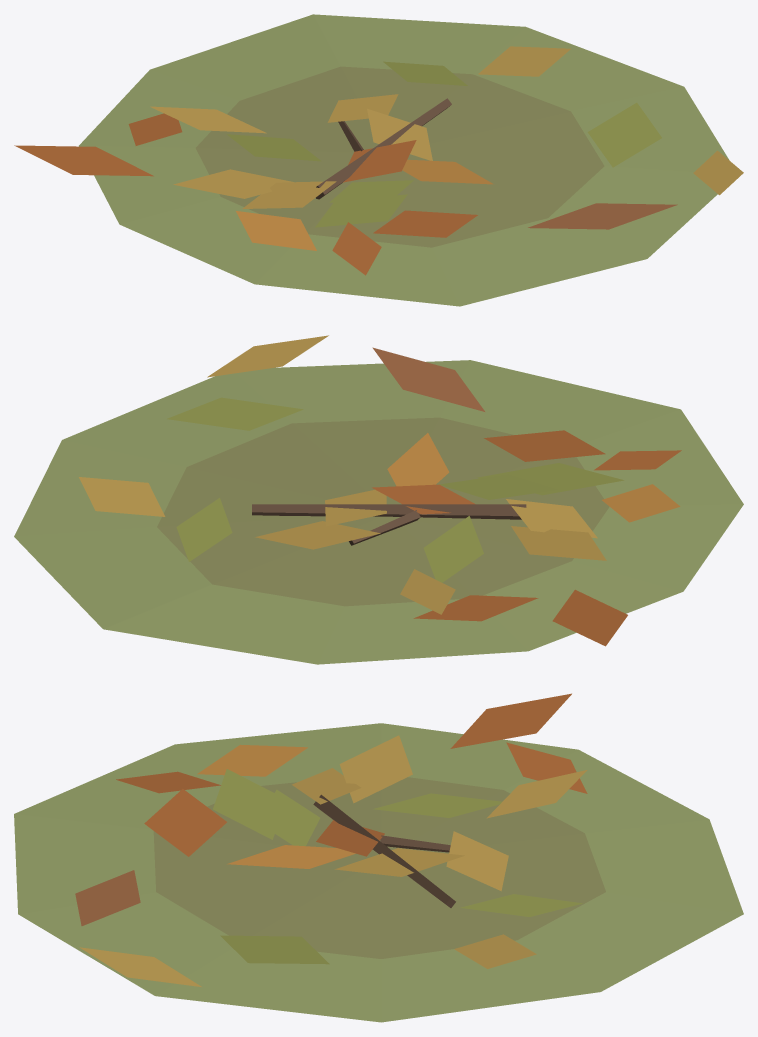
The model's file is gc_leaves_c.glb.
The picture shows the model from 3 angles, top to bottom: view 1: azimuth 30°, elevation 25°; view 2: azimuth 150°, elevation 25°; view 3: azimuth 270°, elevation 25°; orthographic projection. The views are drawn at different scales.
Parts seen in each view (by area): view 1: body_nh, body; view 2: body_nh, body; view 3: body_nh, body.
Part boxes in pixels (box(x1,y1,x2,y2)): body_nh: box(14, 14, 743, 306); body: box(316, 98, 451, 199); body_nh: box(14, 335, 743, 664); body: box(252, 504, 526, 545); body_nh: box(14, 693, 743, 1022); body: box(313, 794, 455, 907).
Bounding box in the file's own units: 1.21 × 0.0379 × 1.21.
